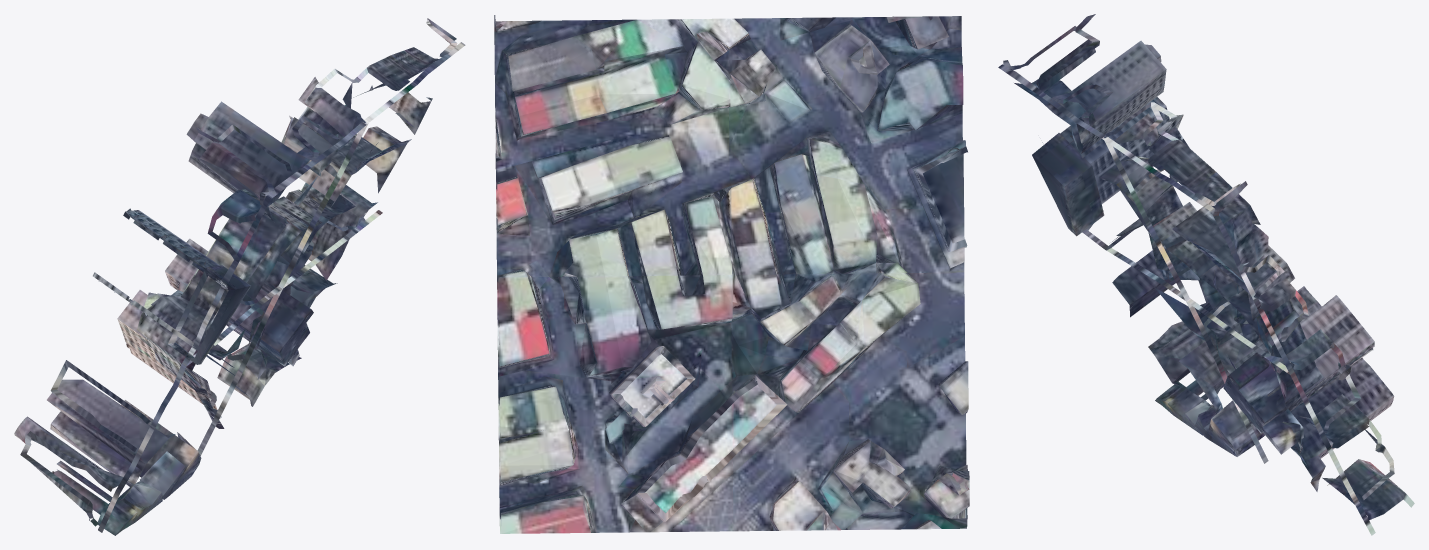
3 renders of one model, left to right at view 1: azimuth 30°, elevation 25°; view 2: azimuth 150°, elevation 25°; view 3: azimuth 270°, elevation 25°, orthographic. The views are drawn at different scales.
Bounding box in the file's own units: 168 × 156 × 143.
2 materials, 2 textured.
